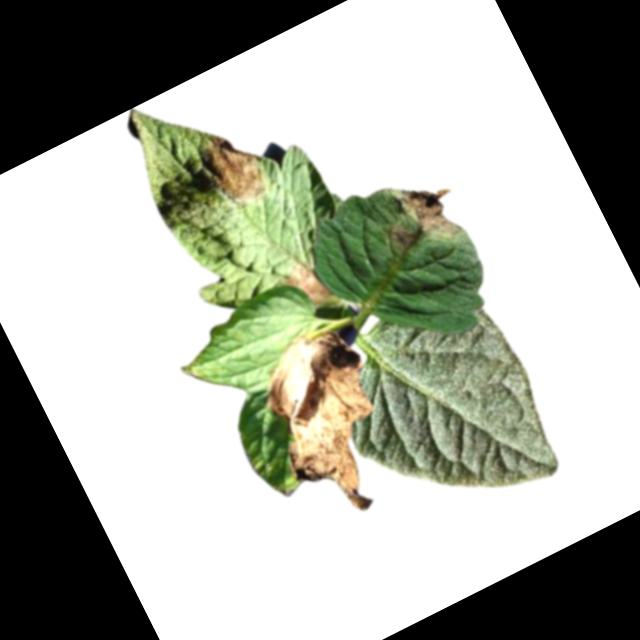Late_blight: (239, 314, 422, 532), (186, 119, 278, 220), (387, 165, 470, 258), (274, 254, 338, 321), (383, 220, 415, 256)
healthy: (309, 273, 572, 548)
